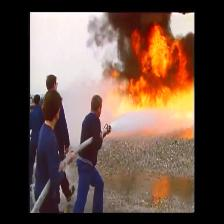fire: (99, 37, 189, 116)
